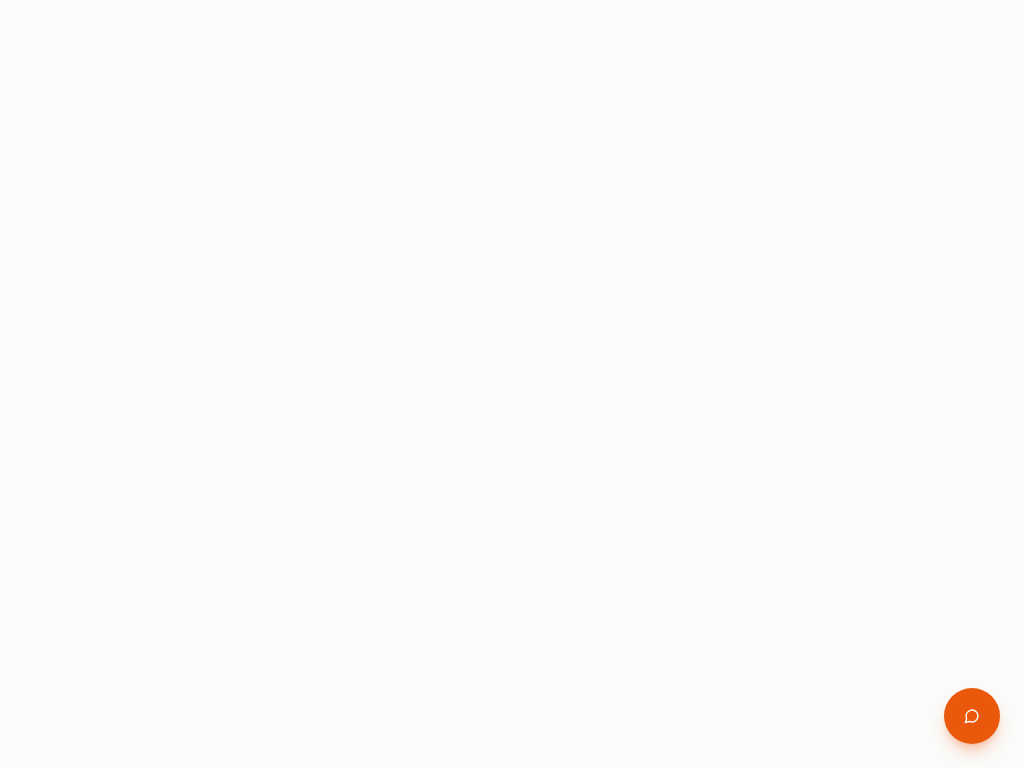
Test: ContactFormDialog Email Delivery & Reliability › 1. Successful sending: clears form, closes dialog, shows success toast, and does NOT trigger mailto redirect
Open dialog
Click the button named "contact us": [972, 716] box top-left (944, 688), bottom-right (1000, 744)
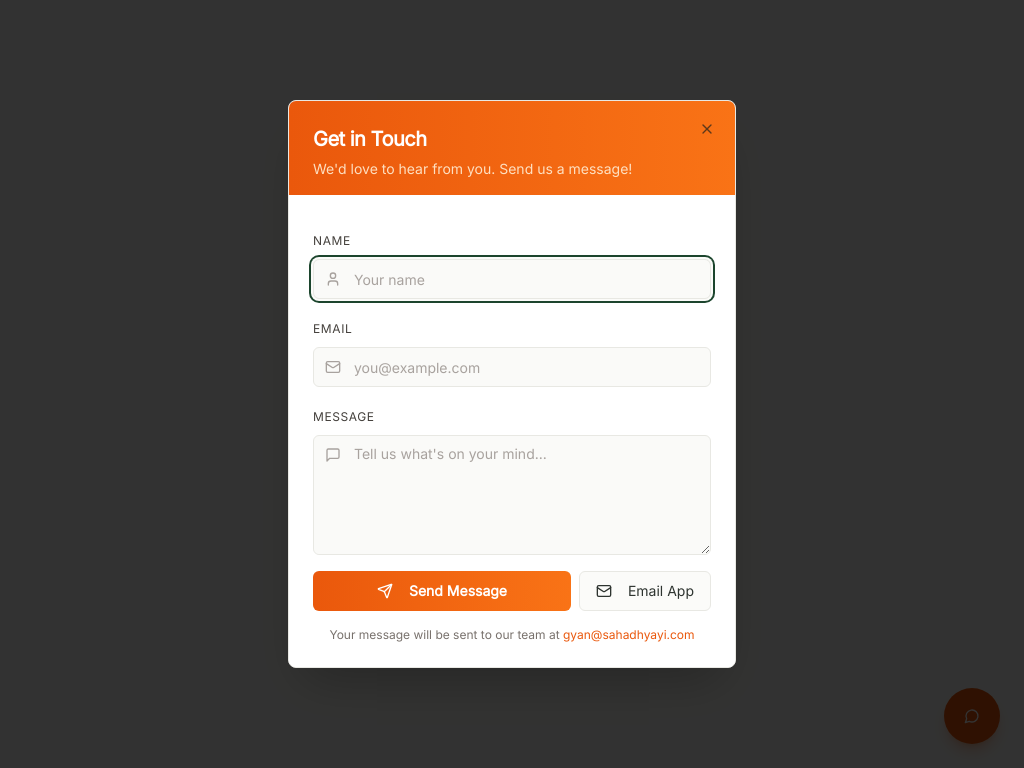
In the field with placeholder "Your name": [512, 279] box top-left (313, 259), bottom-right (711, 299), type "Alice Reader"
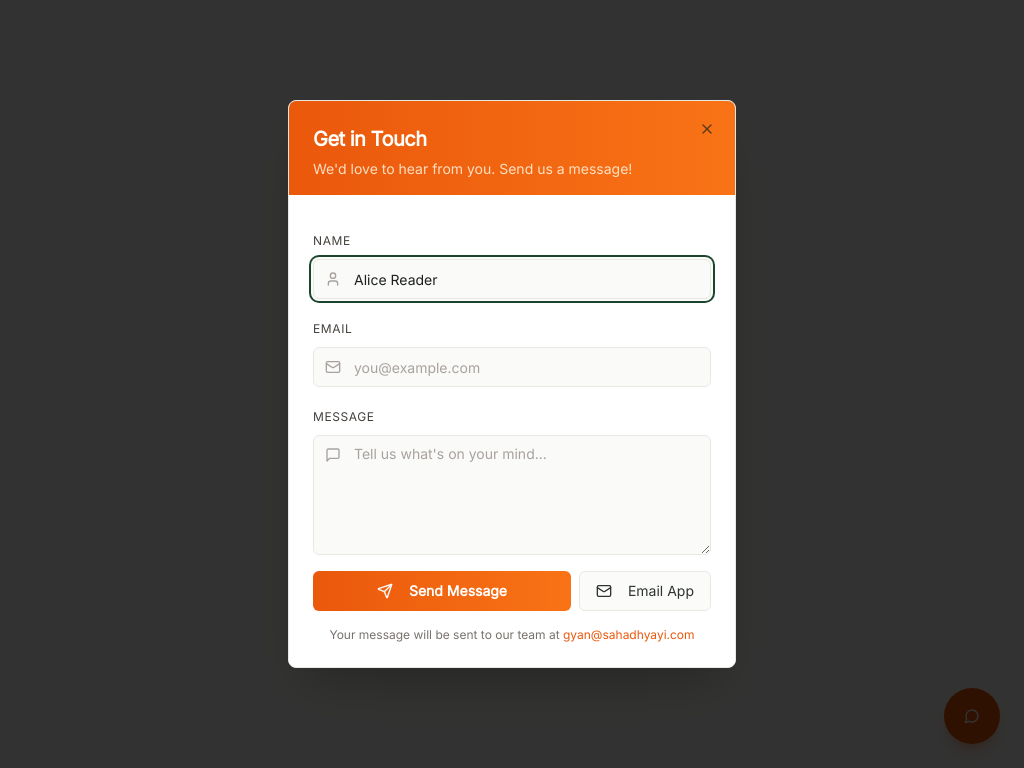
In the field with placeholder "you@example.com": [512, 367] box top-left (313, 347), bottom-right (711, 387), type "alice@example.com"
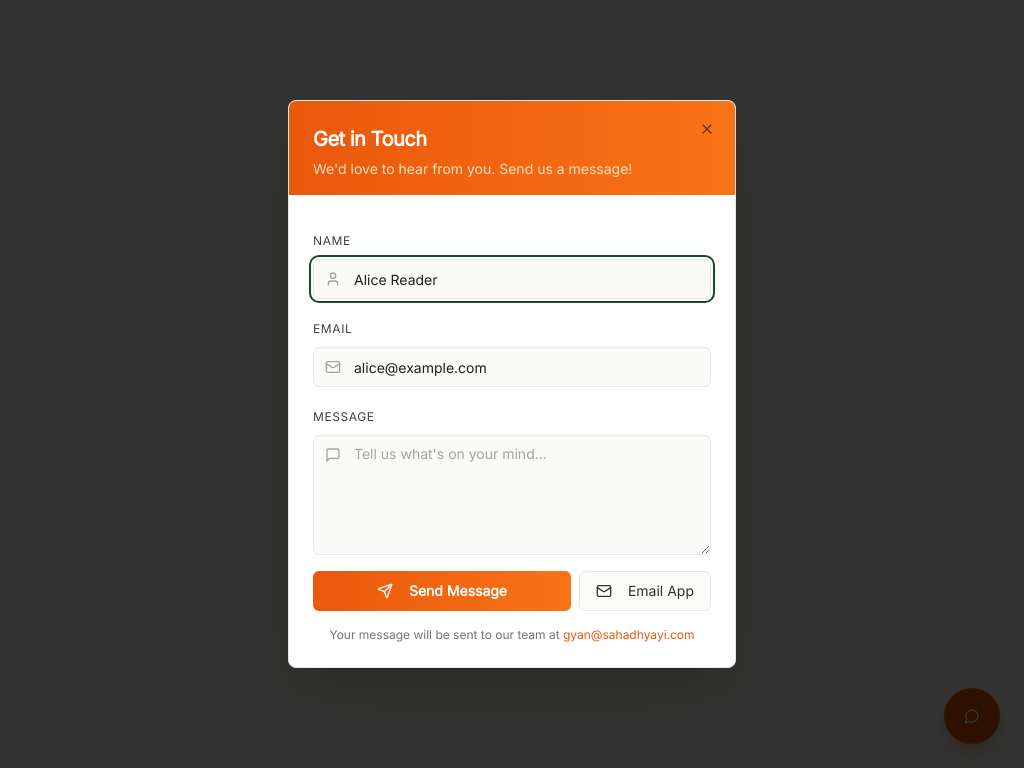
In the text box with placeholder "Tell us what's on your mind...": [512, 495] box top-left (313, 435), bottom-right (711, 555), type "I love this literary reading community!"
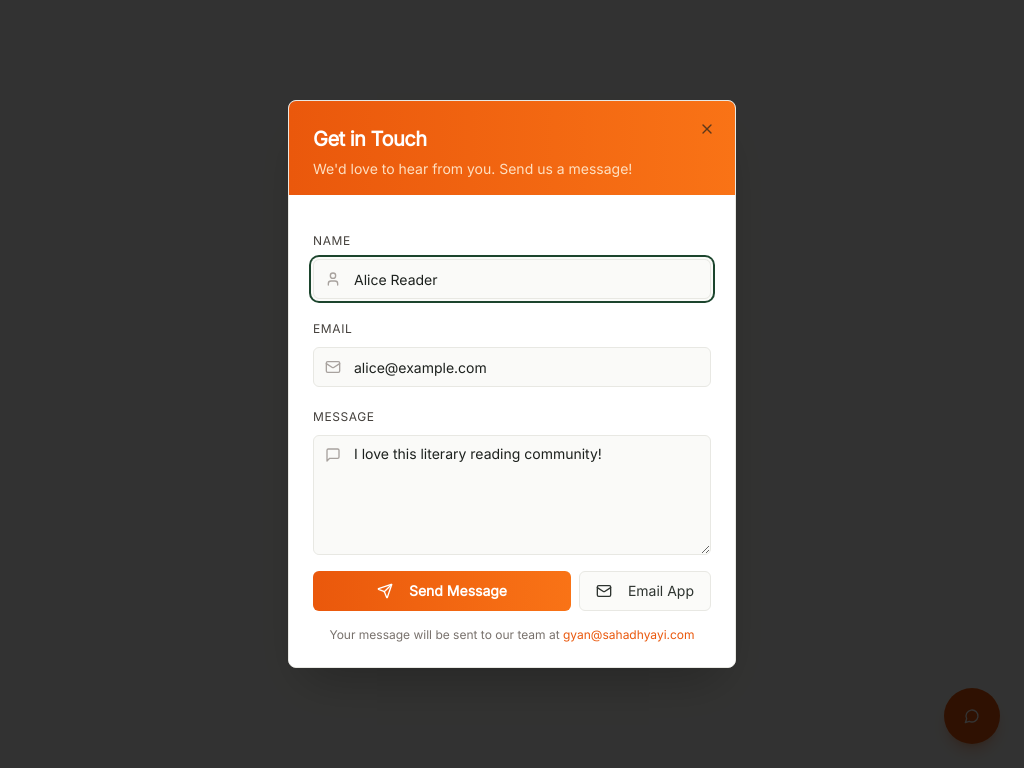
Click the button "Send Message": [442, 591] box top-left (313, 571), bottom-right (571, 611)
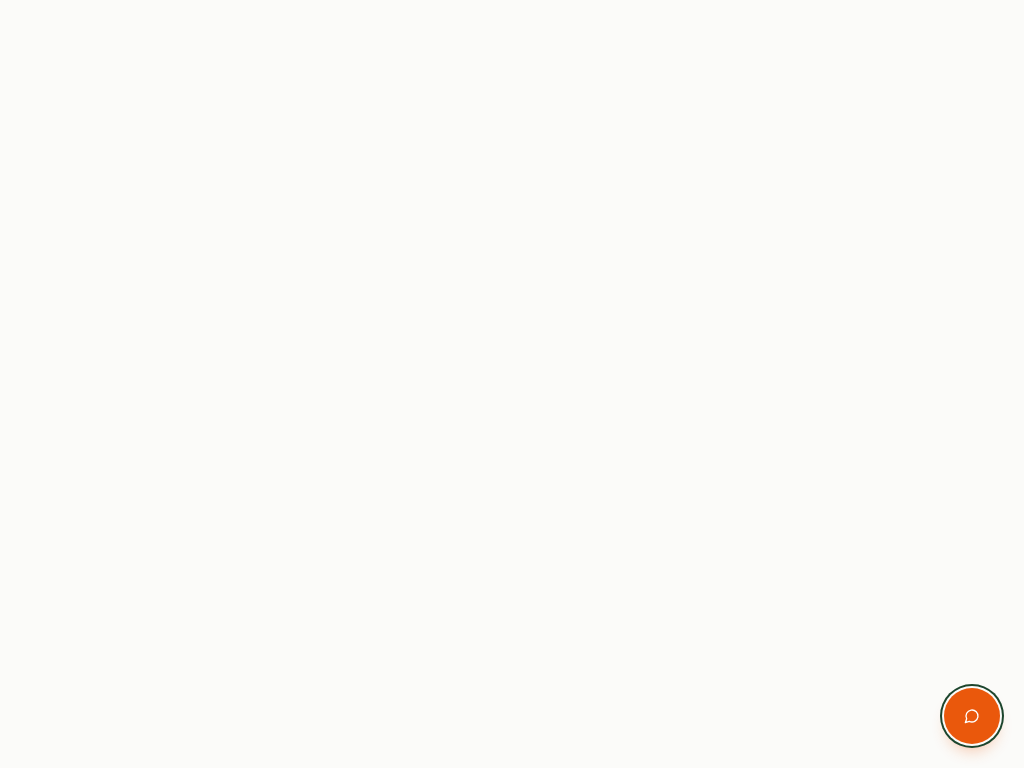
Expected: the dialog is gone
